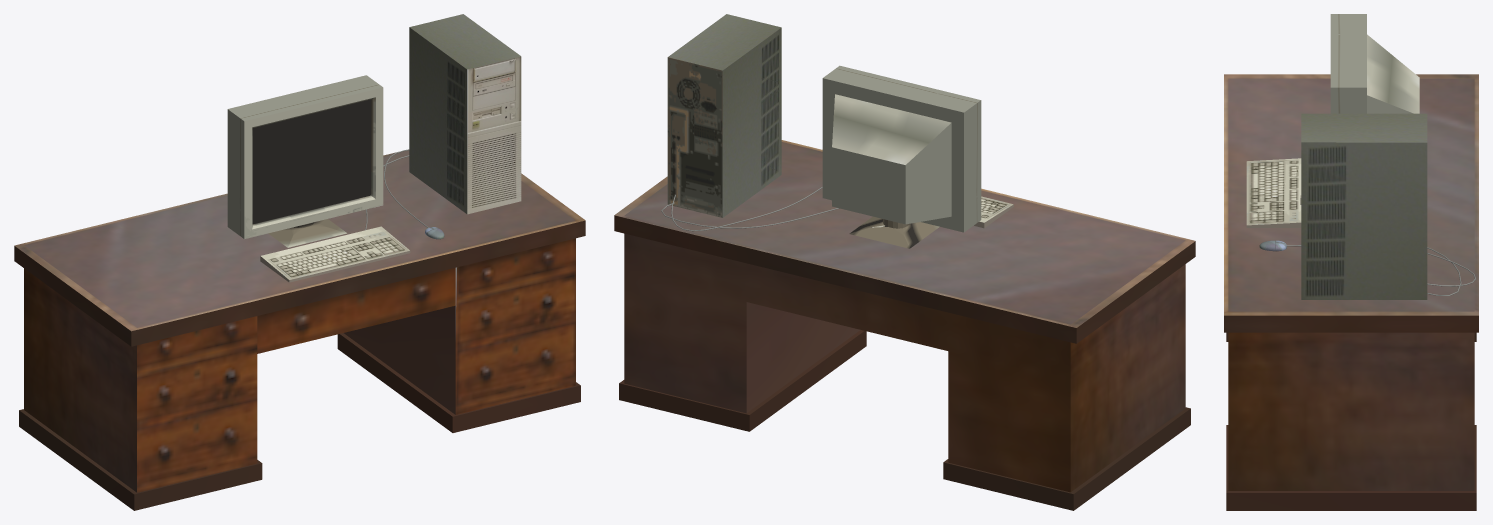
Rendered from ps1computerdesk1.glb.
The picture shows the model from 3 angles, left to right: view 1: azimuth 30°, elevation 25°; view 2: azimuth 150°, elevation 25°; view 3: azimuth 270°, elevation 25°; orthographic projection. The views are drawn at different scales.
Visible parts, largest first — view 1: Cube.004, Cube.001, Cube, Cube.002; view 2: Cube.004, Cube.001, Cube, Cube.002; view 3: Cube.004, Cube, Cube.001, Cube.002.
Boxes of the visible parts, x1,y1,x2,y2 form: Cube.004: (14,149,585,510); Cube.001: (227,75,383,247); Cube: (409,14,521,214); Cube.002: (260,226,410,282); Cube.004: (614,140,1195,510); Cube.001: (822,65,981,248); Cube: (667,14,781,217); Cube.002: (974,196,1013,228); Cube.004: (1224,74,1478,510); Cube: (1301,113,1427,299); Cube.001: (1330,14,1419,113); Cube.002: (1246,158,1301,227).
Bounding box in the file's own units: 5.25 × 3.6 × 2.34.
Materials: 6 (5 with a texture image).
